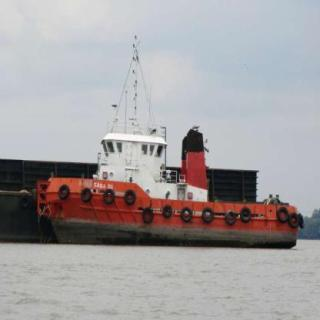Tug Boat: (12, 32, 311, 236)
